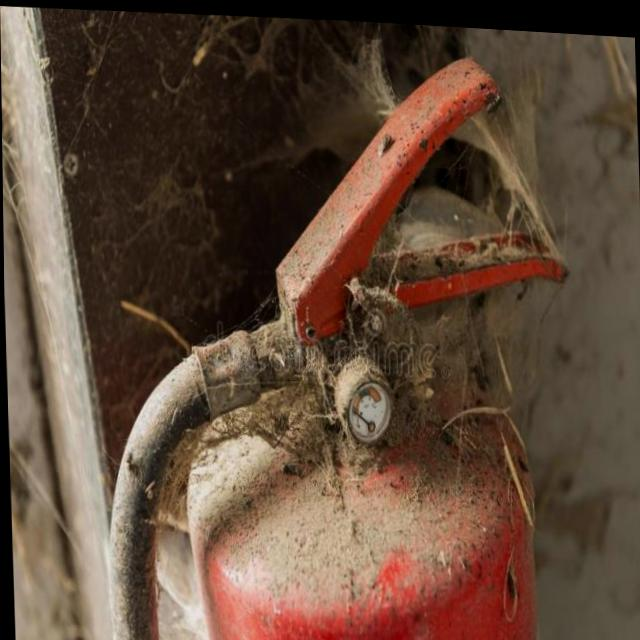FireExtinguisher: (86, 26, 587, 640)
